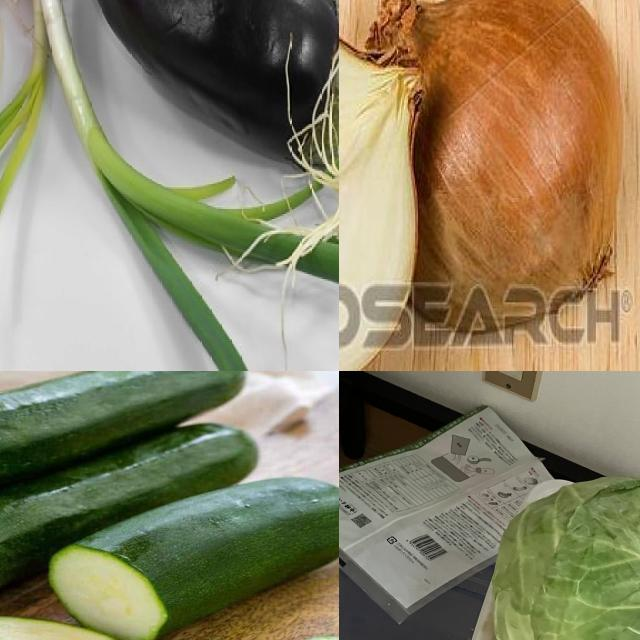cabbage: (488, 475, 640, 640)
eggplant: (79, 1, 340, 176)
onion: (370, 1, 622, 314), (340, 2, 425, 372)
zucchini: (1, 372, 261, 547)
